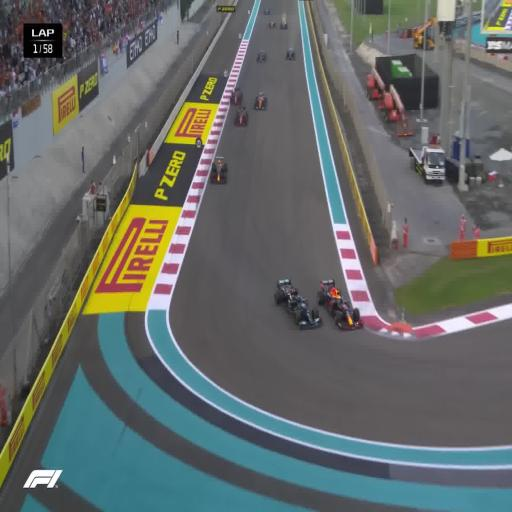f1_car: (274, 279, 322, 329), (317, 279, 363, 329), (210, 156, 227, 183), (234, 106, 247, 126), (230, 86, 243, 105), (254, 92, 267, 110), (279, 13, 288, 28), (285, 48, 295, 59), (257, 50, 266, 62), (269, 20, 276, 27), (263, 7, 270, 14)
